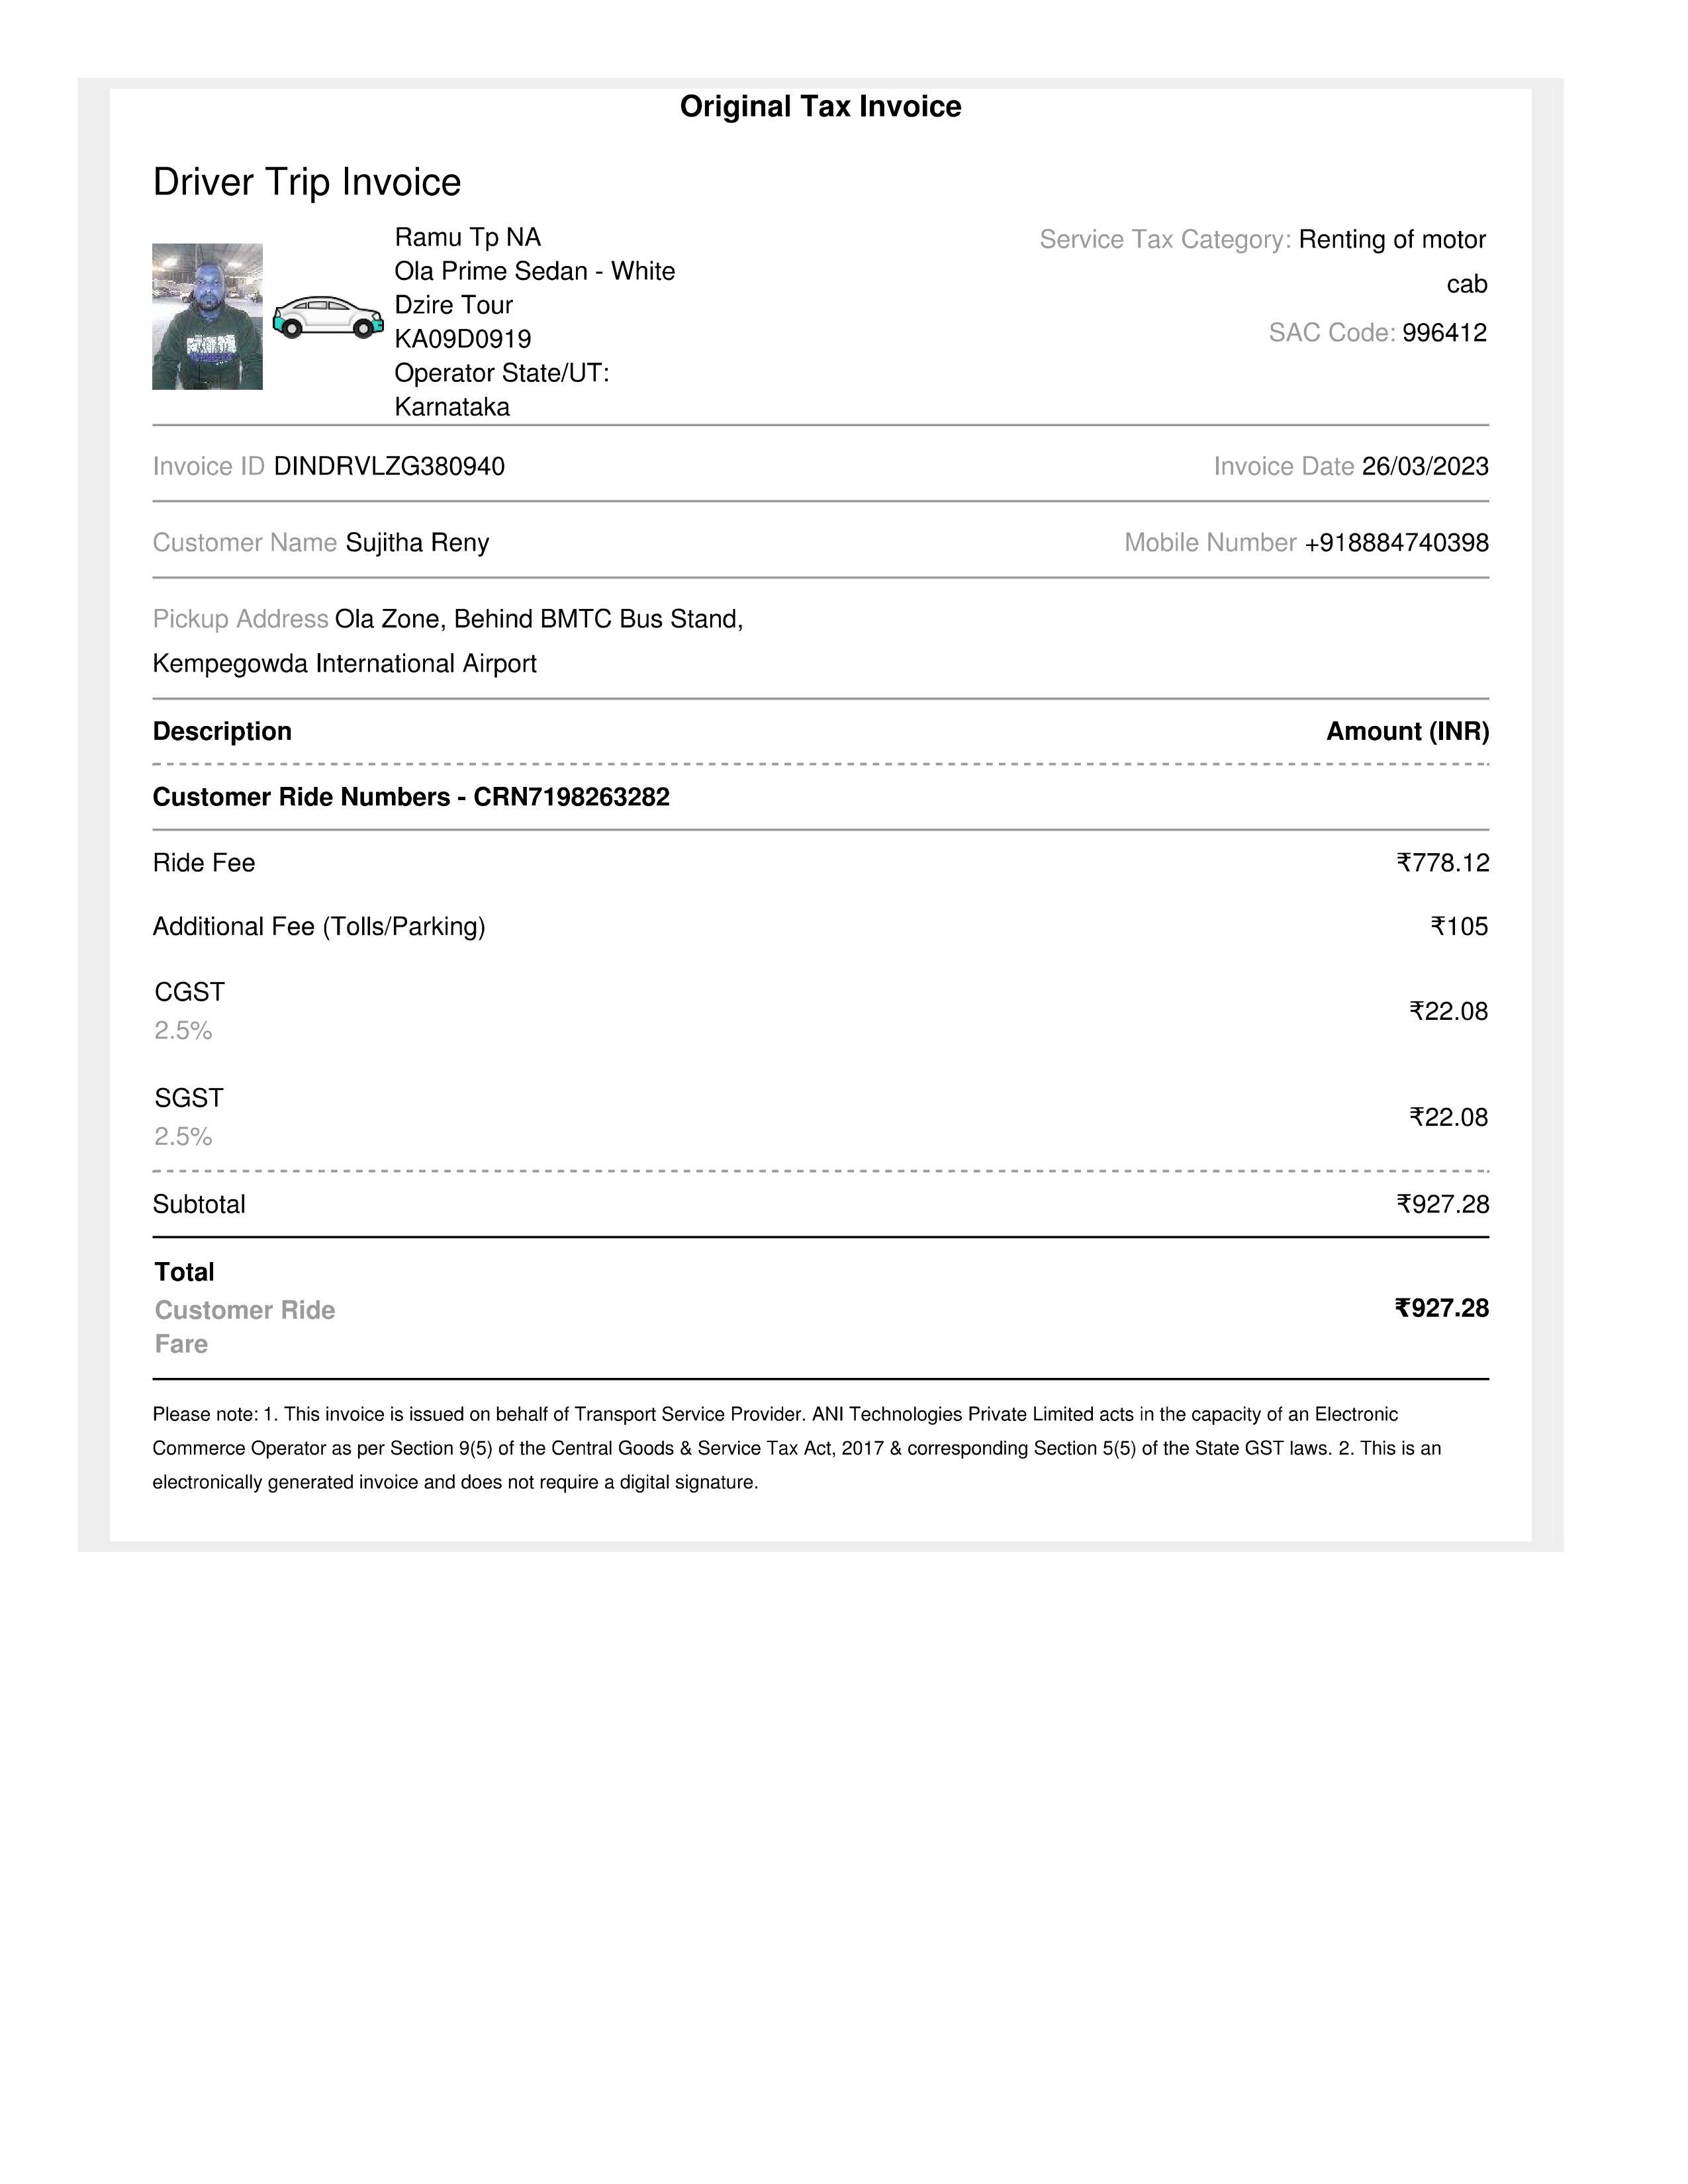InvoiceDate: (1360, 445, 1497, 482)
InvoiceNumber: (270, 443, 507, 482)
TotalAmount: (1390, 1289, 1505, 1331)
